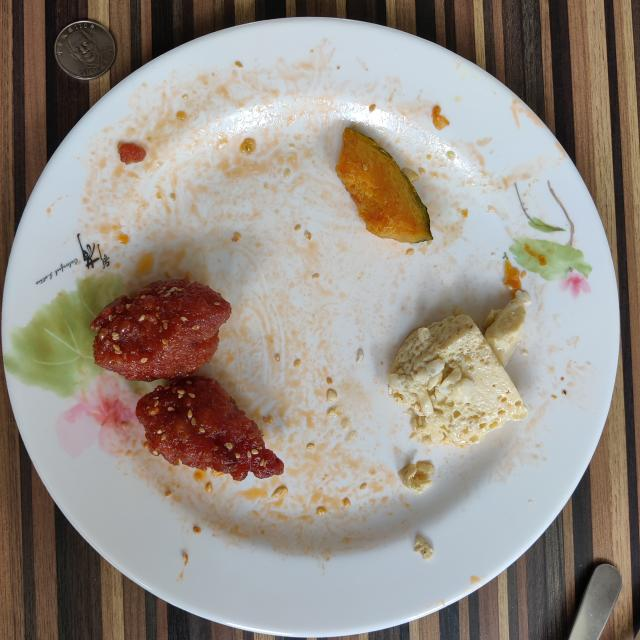coin: (55, 21, 116, 80)
pumpkin: (336, 128, 432, 242)
